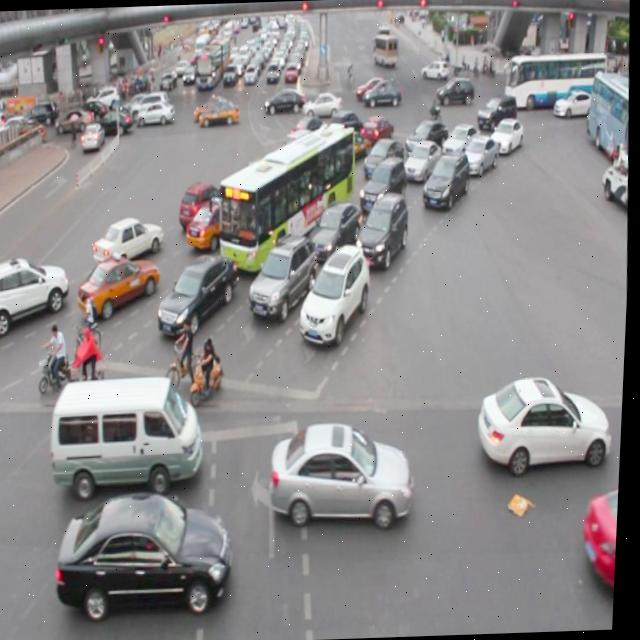car: (58, 488, 239, 613), (272, 418, 418, 523), (478, 373, 616, 471), (299, 244, 374, 342), (157, 256, 243, 336), (249, 234, 319, 316), (0, 256, 72, 329), (78, 254, 161, 316), (581, 480, 623, 595), (355, 190, 412, 266), (308, 199, 366, 262), (93, 216, 166, 266), (185, 197, 247, 245), (422, 150, 470, 209), (358, 156, 408, 211), (179, 180, 232, 228), (291, 153, 342, 194), (237, 157, 284, 200), (251, 176, 299, 218), (405, 118, 449, 163), (363, 136, 405, 182), (403, 138, 441, 183), (475, 94, 517, 134), (460, 133, 498, 175), (328, 126, 372, 162), (442, 124, 481, 162), (329, 109, 365, 146), (288, 114, 327, 148), (358, 113, 395, 148), (488, 115, 523, 151)
truck: (52, 373, 209, 490), (281, 129, 323, 172)
van: (215, 129, 359, 269)
